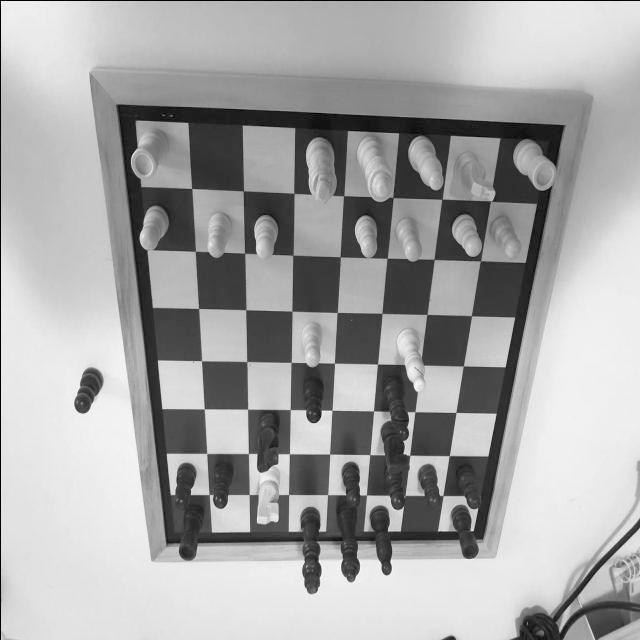chess-table-corners: (102, 92, 130, 116), (546, 112, 572, 136), (158, 534, 172, 554), (474, 530, 486, 546)
